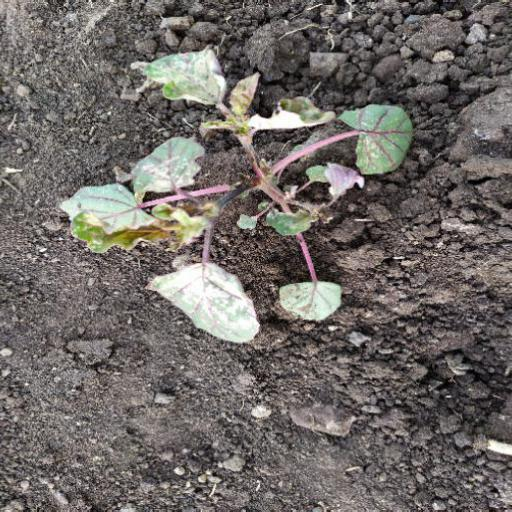weed: (63, 48, 413, 337)
